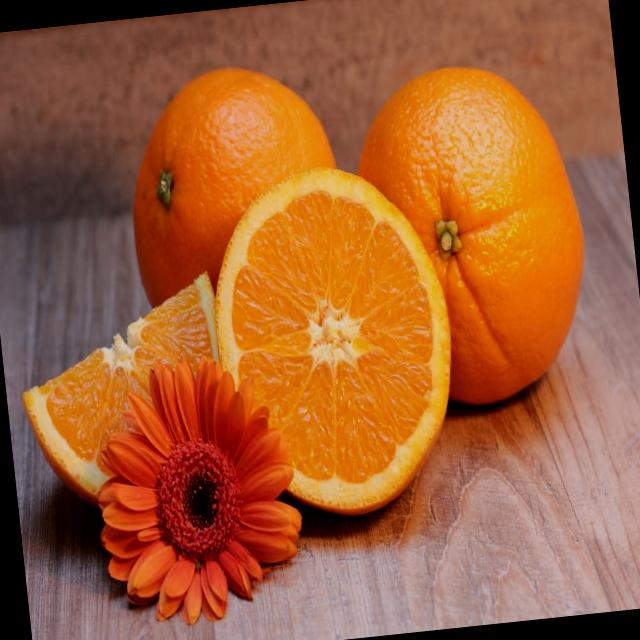orange: (340, 43, 602, 443), (108, 56, 362, 407)
